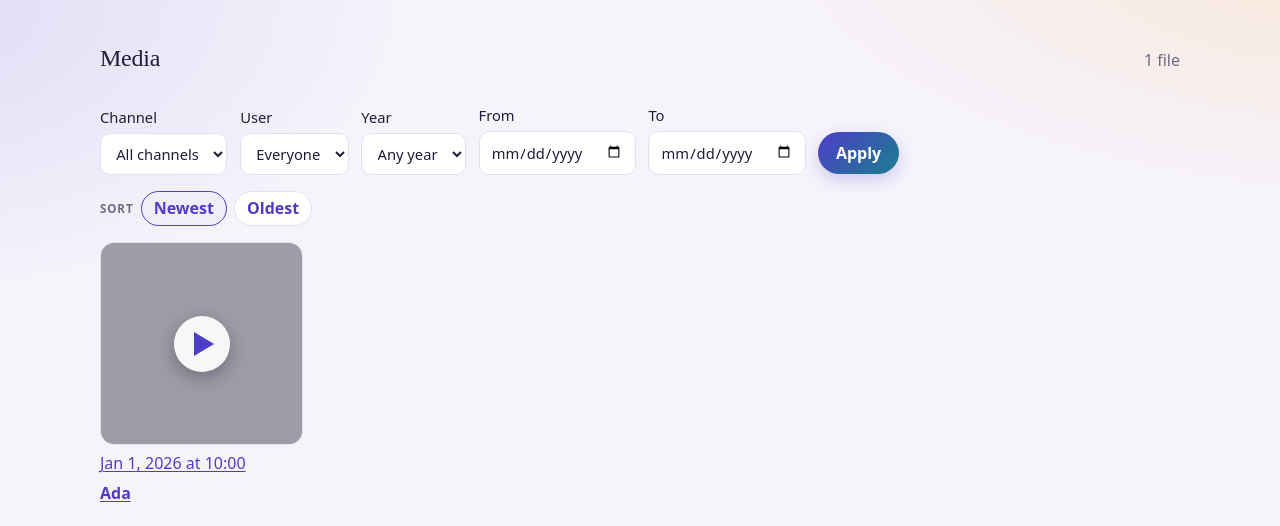
it: media browser › filters the album by the person when their name is clicked
Click the button "Ada": (115, 492) [100,480,131,504]
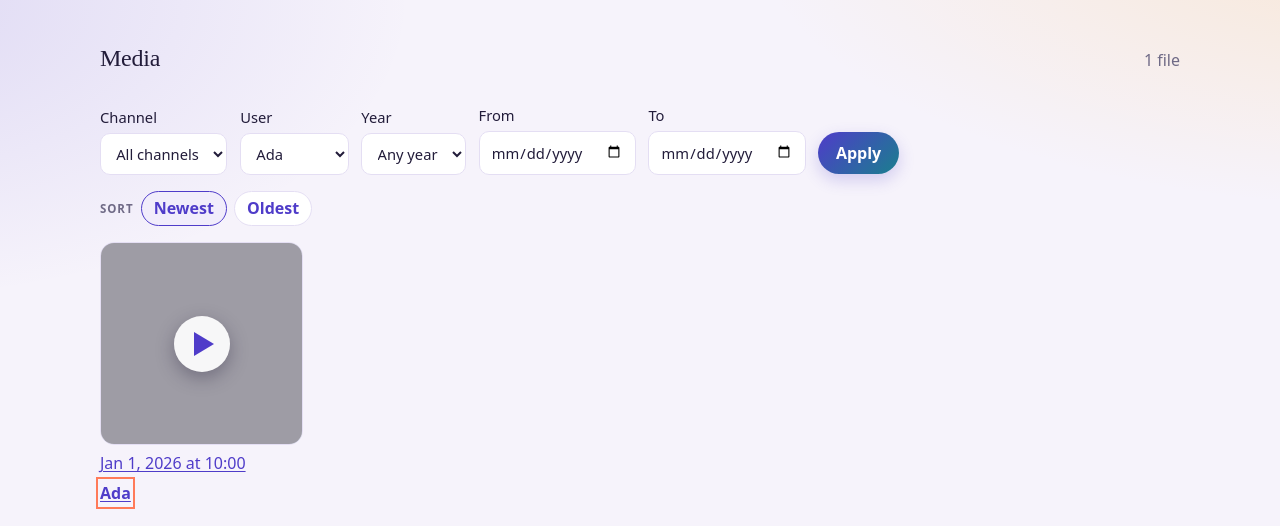
Expected: the dropdown labelled "User" shows "Ada", [240,133,349,175]
